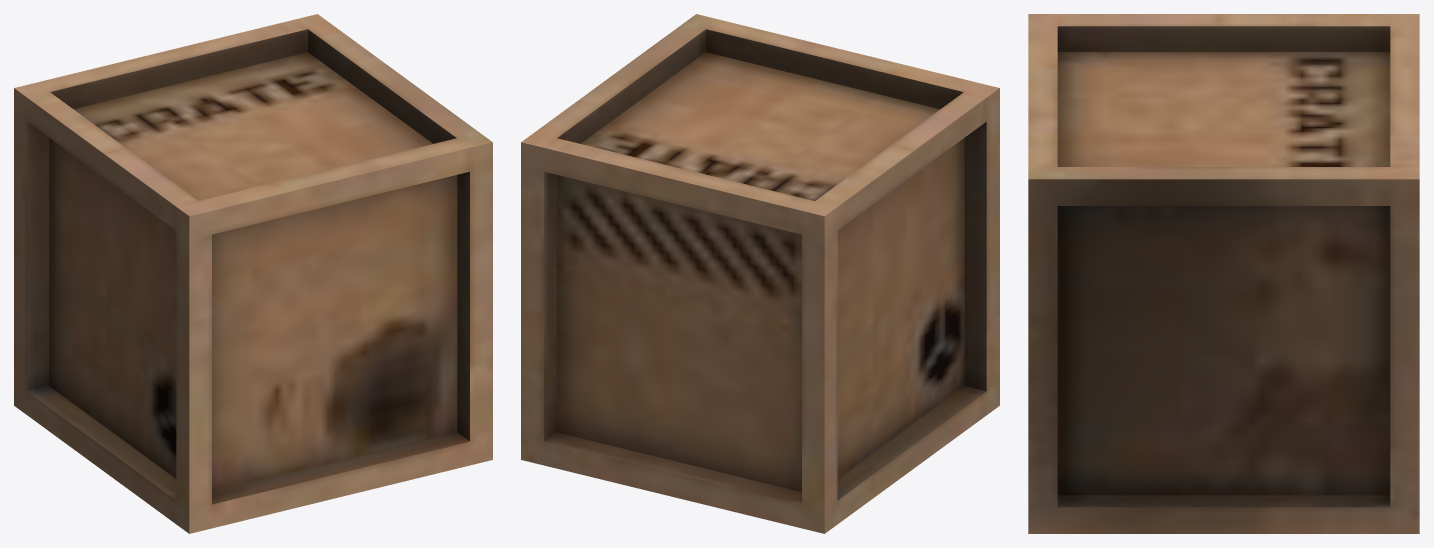
Rendered from Medium Crate1.fbx.
3 renders of one model, left to right at view 1: azimuth 30°, elevation 25°; view 2: azimuth 150°, elevation 25°; view 3: azimuth 270°, elevation 25°, orthographic. The views are drawn at different scales.
Parts seen in each view (by area): view 1: Medium Crate1; view 2: Medium Crate1; view 3: Medium Crate1.
Part boxes in pixels (box(x1,y1,x2,y2)): Medium Crate1: box(14, 14, 492, 533); Medium Crate1: box(521, 14, 999, 533); Medium Crate1: box(1028, 14, 1419, 533).
Size of the model in its own units: 0.9 by 0.9 by 0.9.
1 material, 1 textured.
